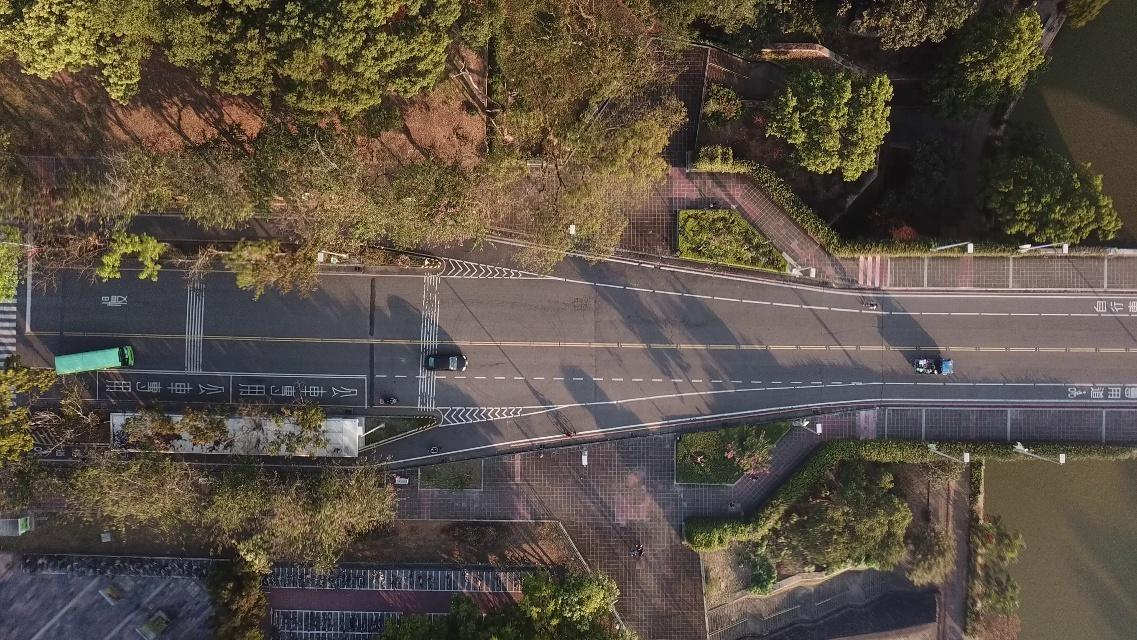Bus: (53, 345, 133, 373)
Car: (424, 352, 472, 374)
